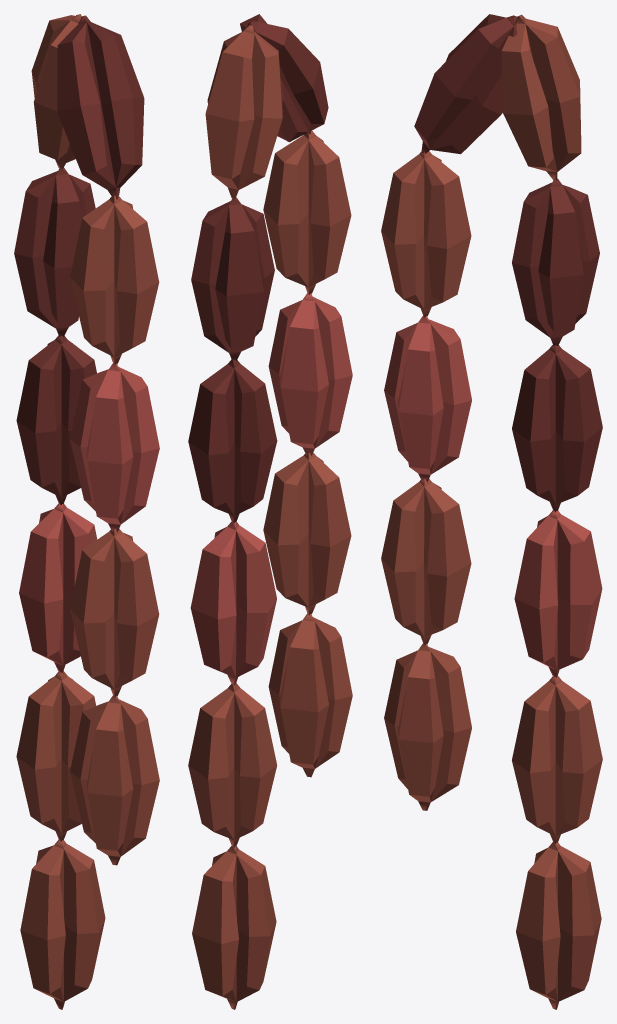
The model's file is SM_Prop_Meat_Sausages_01.glb.
3 renders of one model, left to right at view 1: azimuth 30°, elevation 25°; view 2: azimuth 150°, elevation 25°; view 3: azimuth 270°, elevation 25°, orthographic. The views are drawn at different scales.
Visible parts, largest first — view 1: SM_Prop_Meat_Sausages_01; view 2: SM_Prop_Meat_Sausages_01; view 3: SM_Prop_Meat_Sausages_01.
Boxes of the visible parts, bbox=[...] form: SM_Prop_Meat_Sausages_01: bbox=[14, 14, 159, 1009]; SM_Prop_Meat_Sausages_01: bbox=[188, 14, 352, 1009]; SM_Prop_Meat_Sausages_01: bbox=[381, 14, 602, 1009].
Size of the model in its own units: 0.123 by 1.34 by 0.2704.
1 material, 1 textured.
